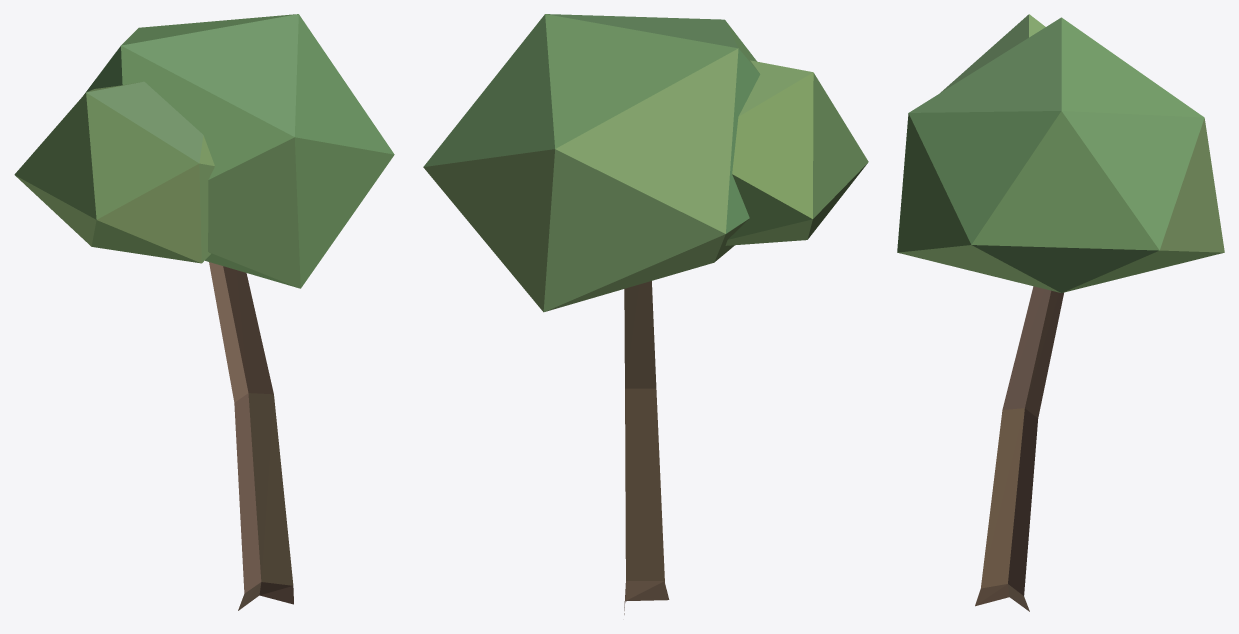
The model's file is Tree_Broadleaf_04_Far.glb.
3 renders of one model, left to right at view 1: azimuth 30°, elevation 25°; view 2: azimuth 150°, elevation 25°; view 3: azimuth 270°, elevation 25°, orthographic. The views are drawn at different scales.
Visible parts, largest first — view 1: Tree_Broadleaf_04_Far; view 2: Tree_Broadleaf_04_Far; view 3: Tree_Broadleaf_04_Far.
Part boxes in pixels (bbox=[...]): Tree_Broadleaf_04_Far: bbox=[14, 14, 394, 610]; Tree_Broadleaf_04_Far: bbox=[423, 14, 868, 614]; Tree_Broadleaf_04_Far: bbox=[897, 14, 1224, 611].
Bounding box in the file's own units: 5.74 × 9.55 × 5.27.
